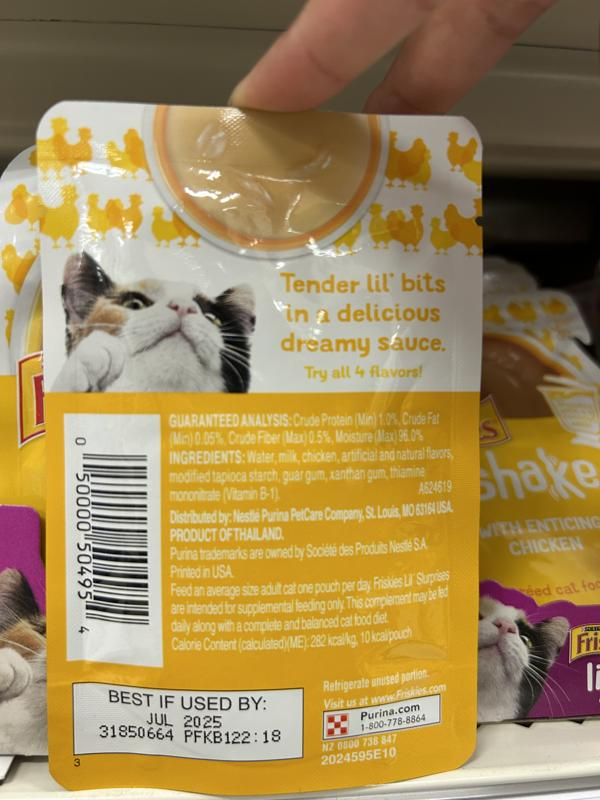ingredients: (165, 448, 458, 505)
